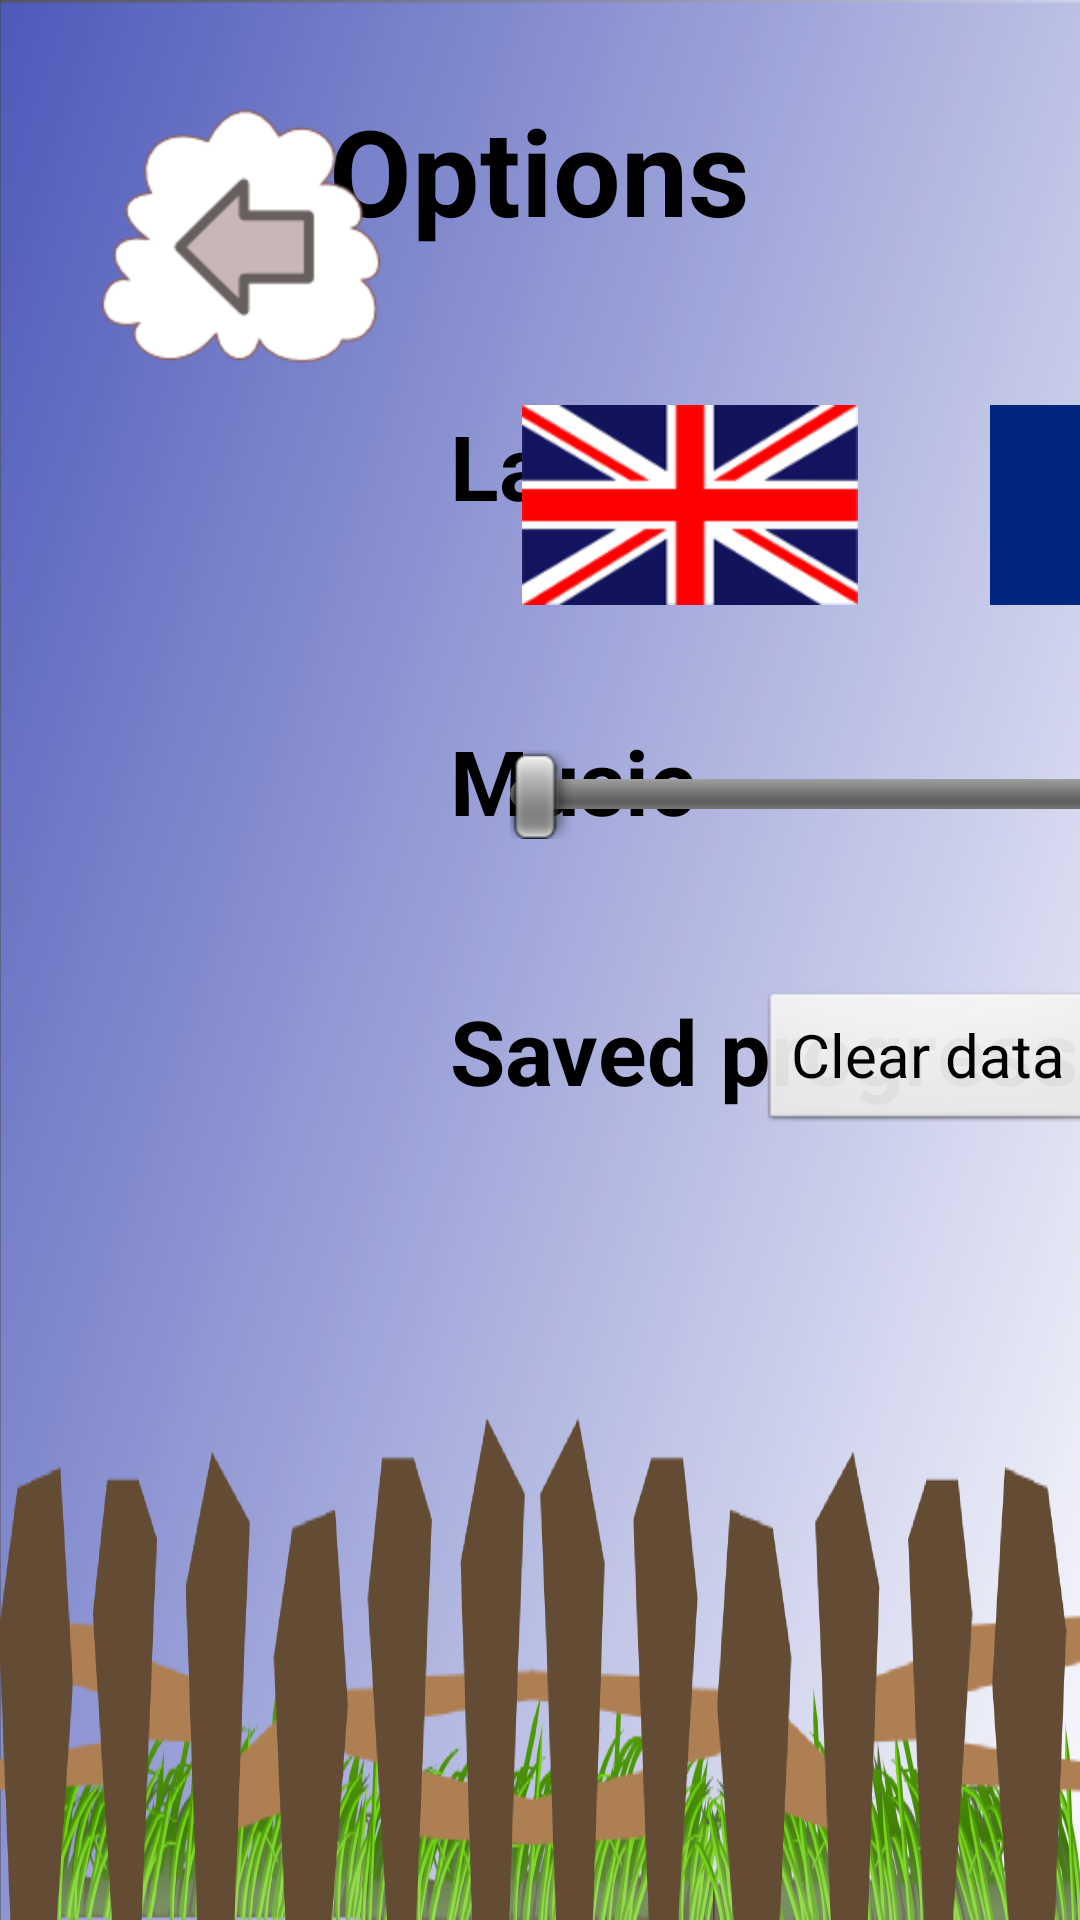

Point at icon controls on the screen. Image size 1080px×1920px, points as (x,y).
back: (245,250)
uk flag: (690,505)
